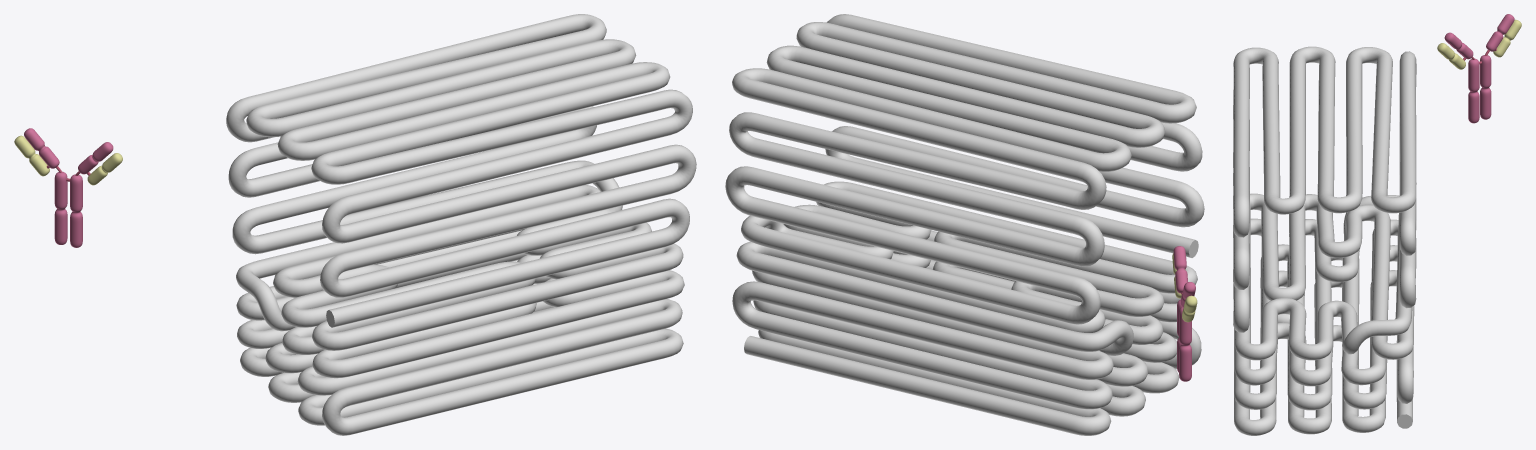
Rendered from box_for_website.glb.
3 views of the same model, side by side, from view 1: azimuth 30°, elevation 25°; view 2: azimuth 150°, elevation 25°; view 3: azimuth 270°, elevation 25° (orthographic). The views are drawn at different scales.
Visible parts, largest first — view 1: main box, antibody; view 2: main box, antibody; view 3: main box, antibody.
Part boxes in pixels (x1,y1,x2,y2): main box: [226, 14, 696, 435]; antibody: [14, 128, 122, 247]; main box: [725, 14, 1204, 435]; antibody: [1172, 246, 1197, 381]; main box: [1233, 46, 1416, 435]; antibody: [1437, 14, 1521, 123].
Size of the model in its own units: 19.57 by 9.71 by 10.62.
